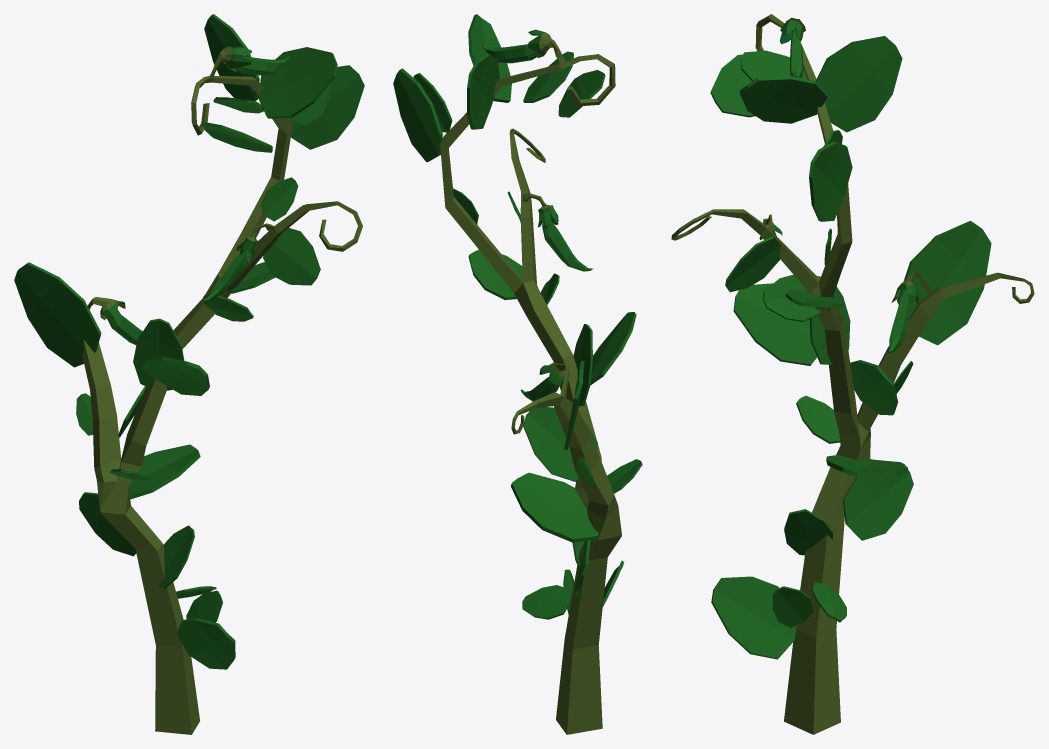
File: 1-4_pea.glb
The picture shows the model from 3 angles, left to right: view 1: azimuth 30°, elevation 25°; view 2: azimuth 150°, elevation 25°; view 3: azimuth 270°, elevation 25°; orthographic projection. The views are drawn at different scales.
Visible parts, largest first — view 1: pea 4; view 2: pea 4; view 3: pea 4.
Boxes of the visible parts, <box> form: pea 4: <box>14,14,364,734</box>; pea 4: <box>393,14,642,734</box>; pea 4: <box>671,14,1034,734</box>.
Size of the model in its own units: 0.5608 by 1.35 by 0.6101.
